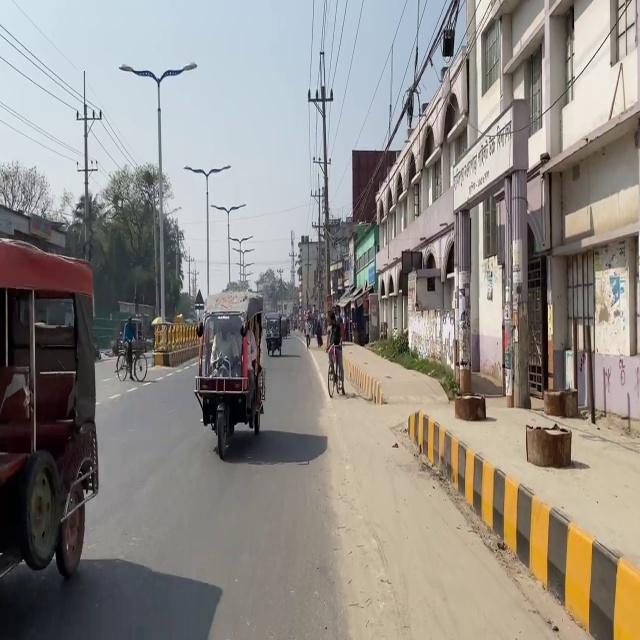Bench: (193, 289, 267, 459)
Construction-barrier: (405, 407, 639, 638), (339, 340, 449, 405)
Dog: (525, 422, 571, 467)
Fallen-tree: (114, 336, 148, 381), (325, 341, 345, 397), (265, 326, 282, 356), (304, 323, 312, 347), (305, 331, 311, 347)
Garbage-bin: (122, 316, 138, 366)
Pothole: (297, 328, 595, 638)
Traffic-cone: (0, 236, 99, 578)
